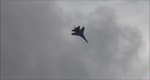maybay_muctieu: (71, 25, 90, 44)
